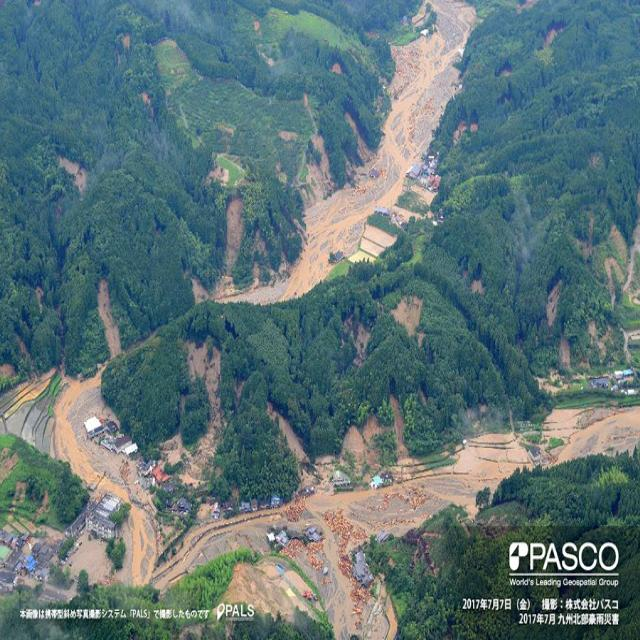Debris-flow: (212, 0, 475, 303), (35, 364, 270, 588), (281, 407, 640, 531), (184, 342, 220, 482), (320, 574, 396, 637), (60, 157, 89, 193)
landslide: (248, 0, 475, 301), (544, 409, 640, 458)
